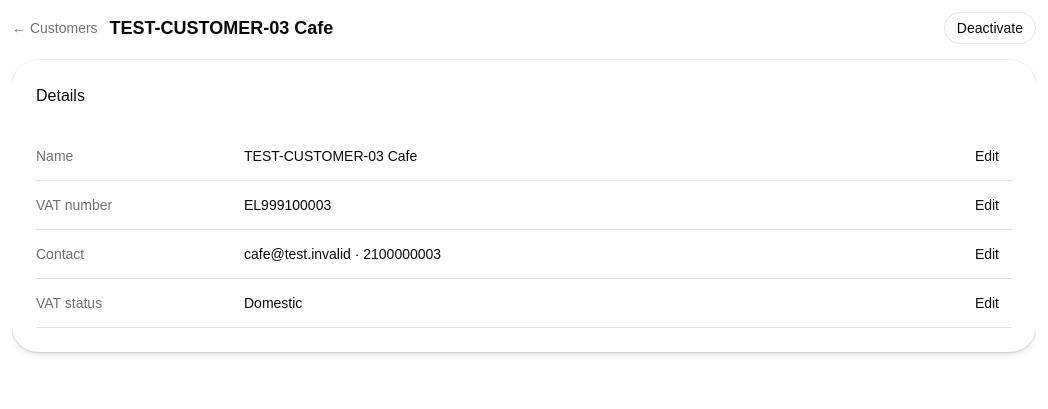
Scenario: the customer detail › shows the backend’s reason when a deactivation is refused
This screenshot has width=1048, height=409.
Expected: the heading "TEST-CUSTOMER-03 Cafe" is shown, left=110, top=14, right=333, bottom=42
Click the button "Deactivate" at (990, 28), box left=944, top=12, right=1036, bottom=44
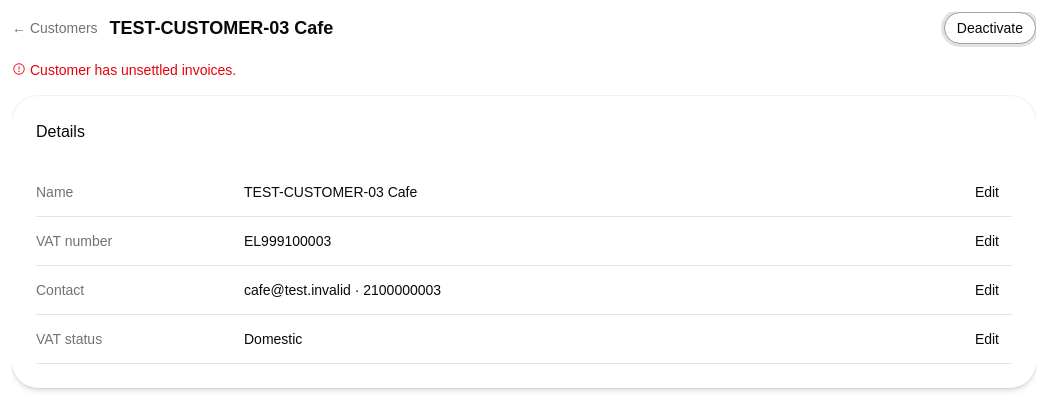
Now the message shows "unsettled invoices", box left=30, top=62, right=236, bottom=78
